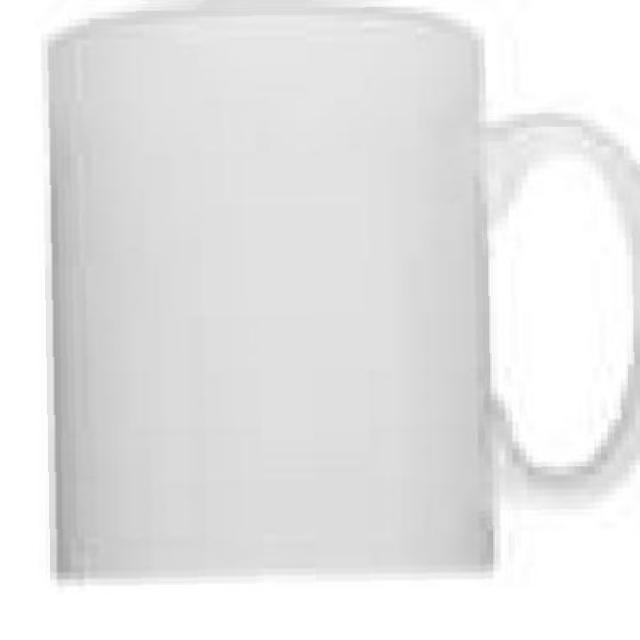cup: (34, 0, 640, 599)
